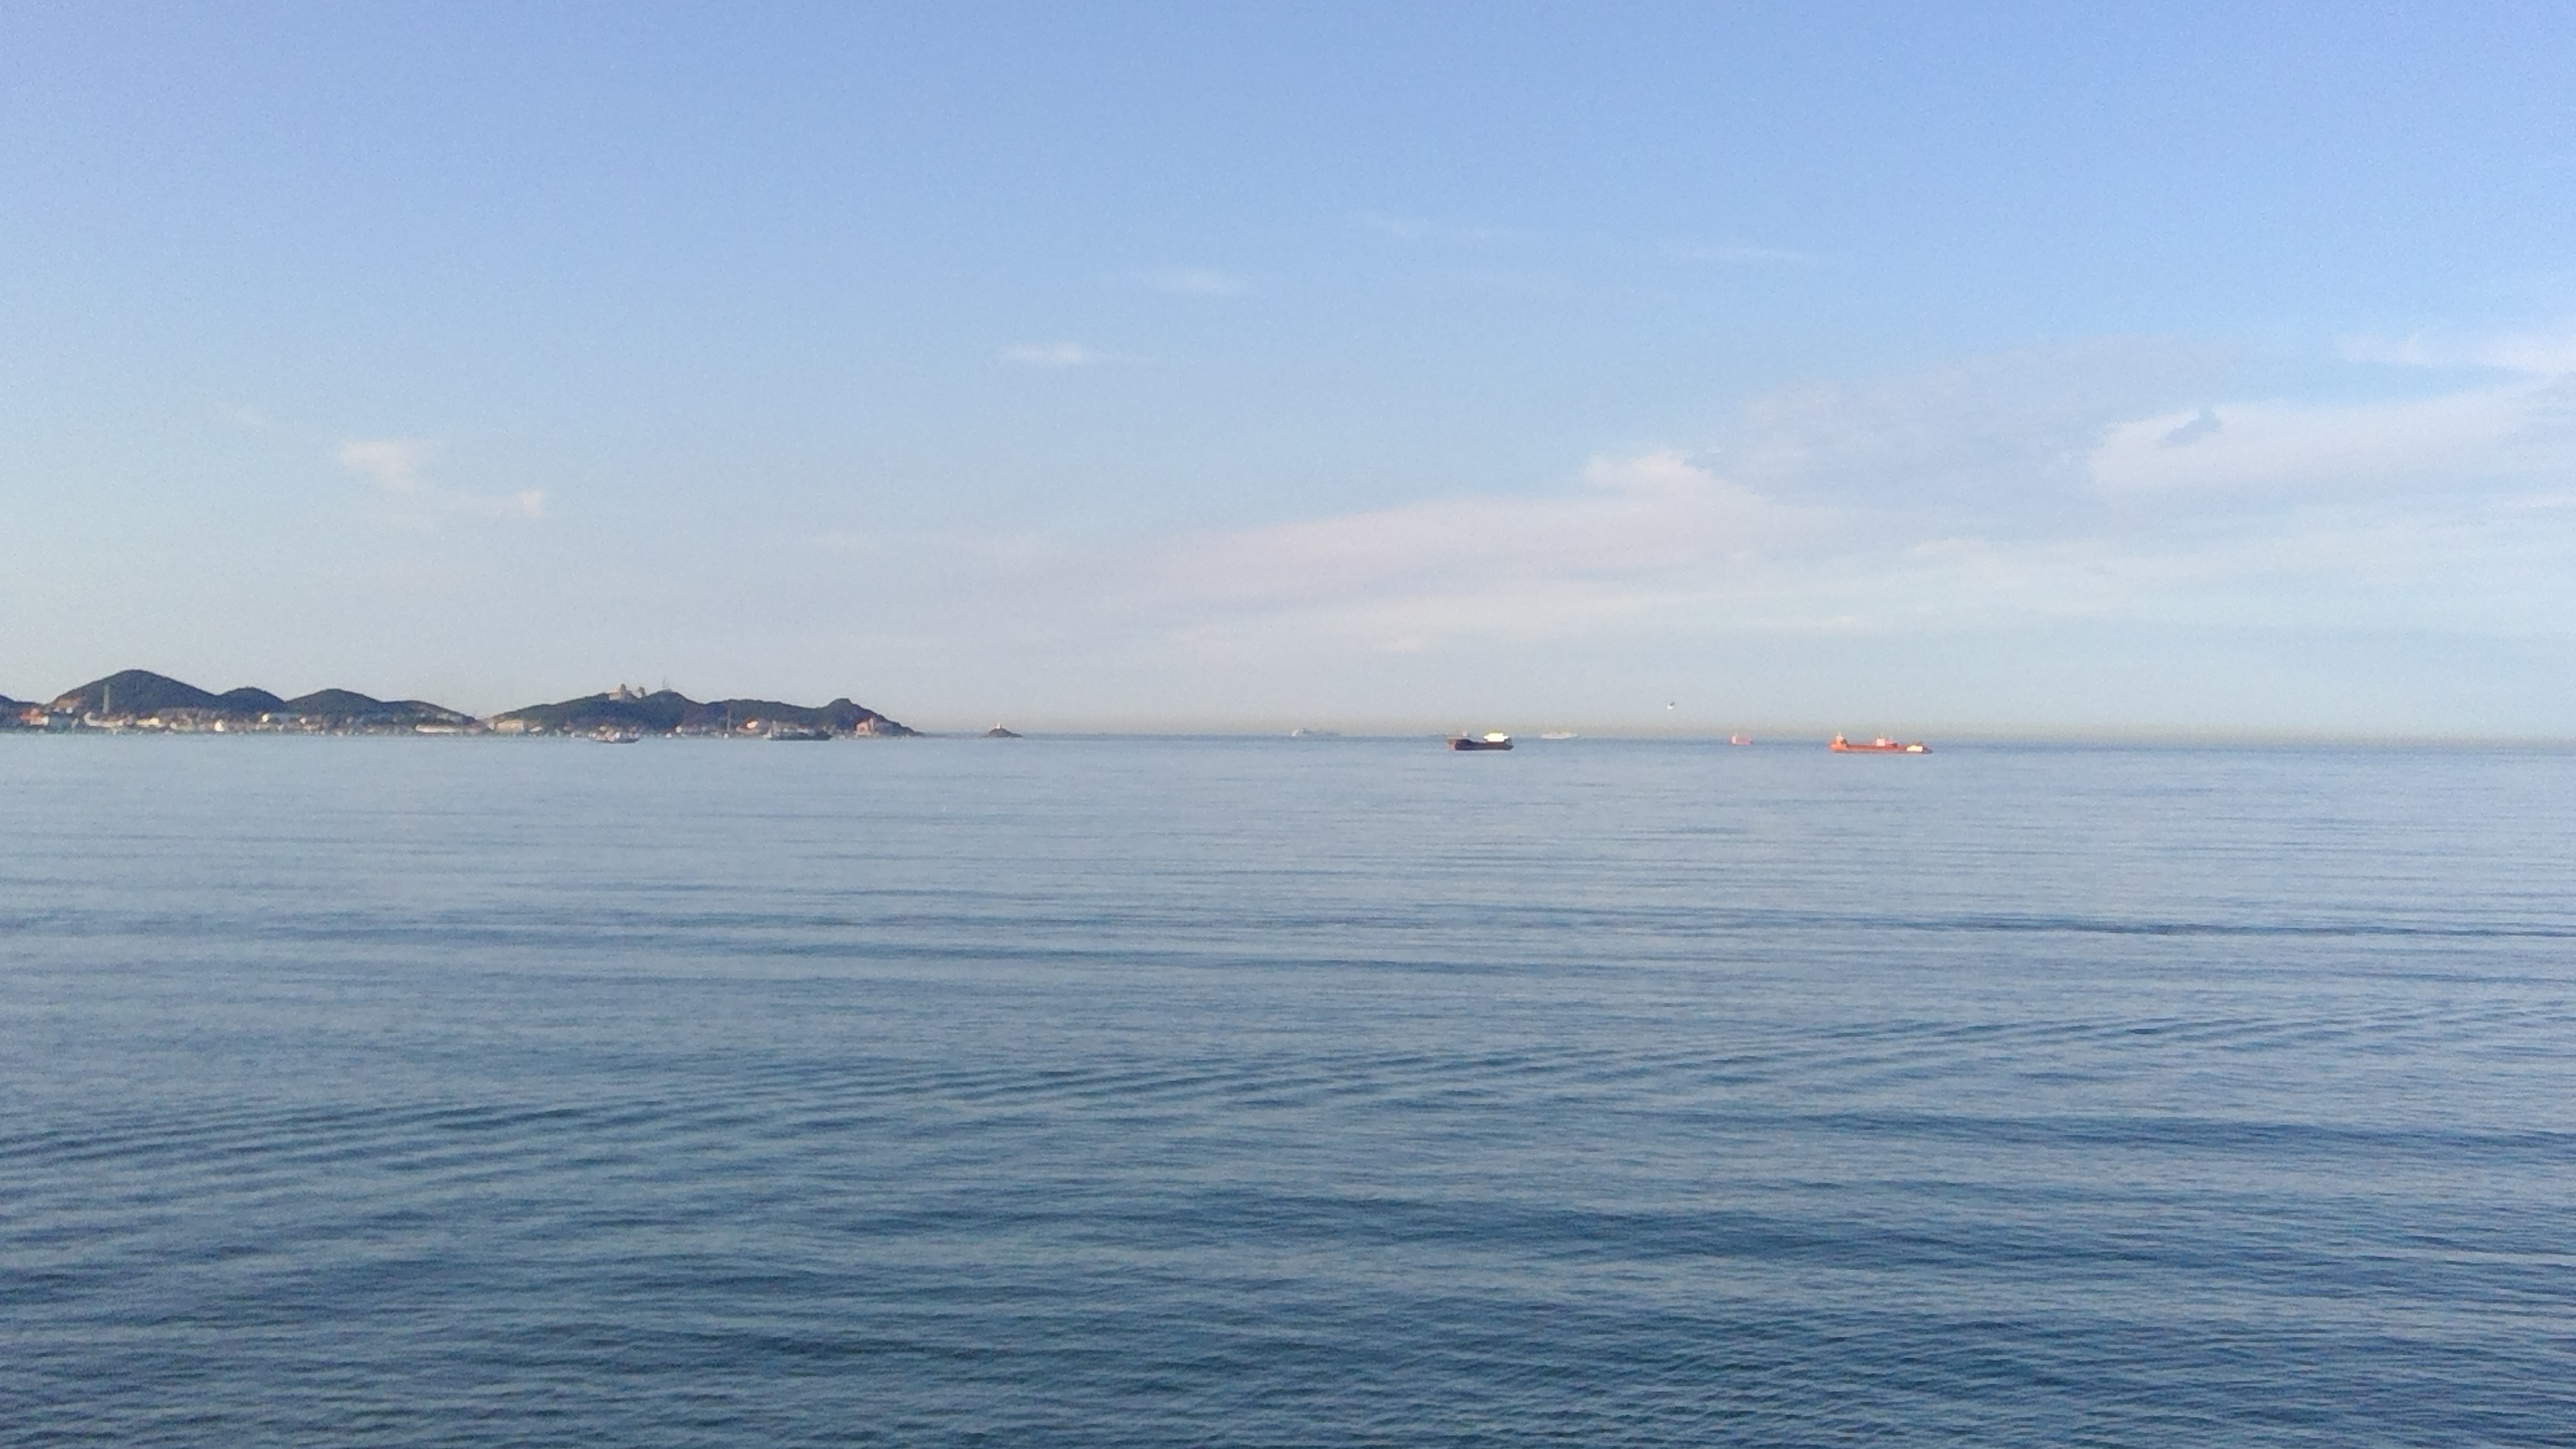boat: (1449, 722, 1522, 757)
platform: (483, 678, 908, 747), (9, 656, 214, 734), (248, 671, 476, 731), (1833, 727, 1937, 759)
